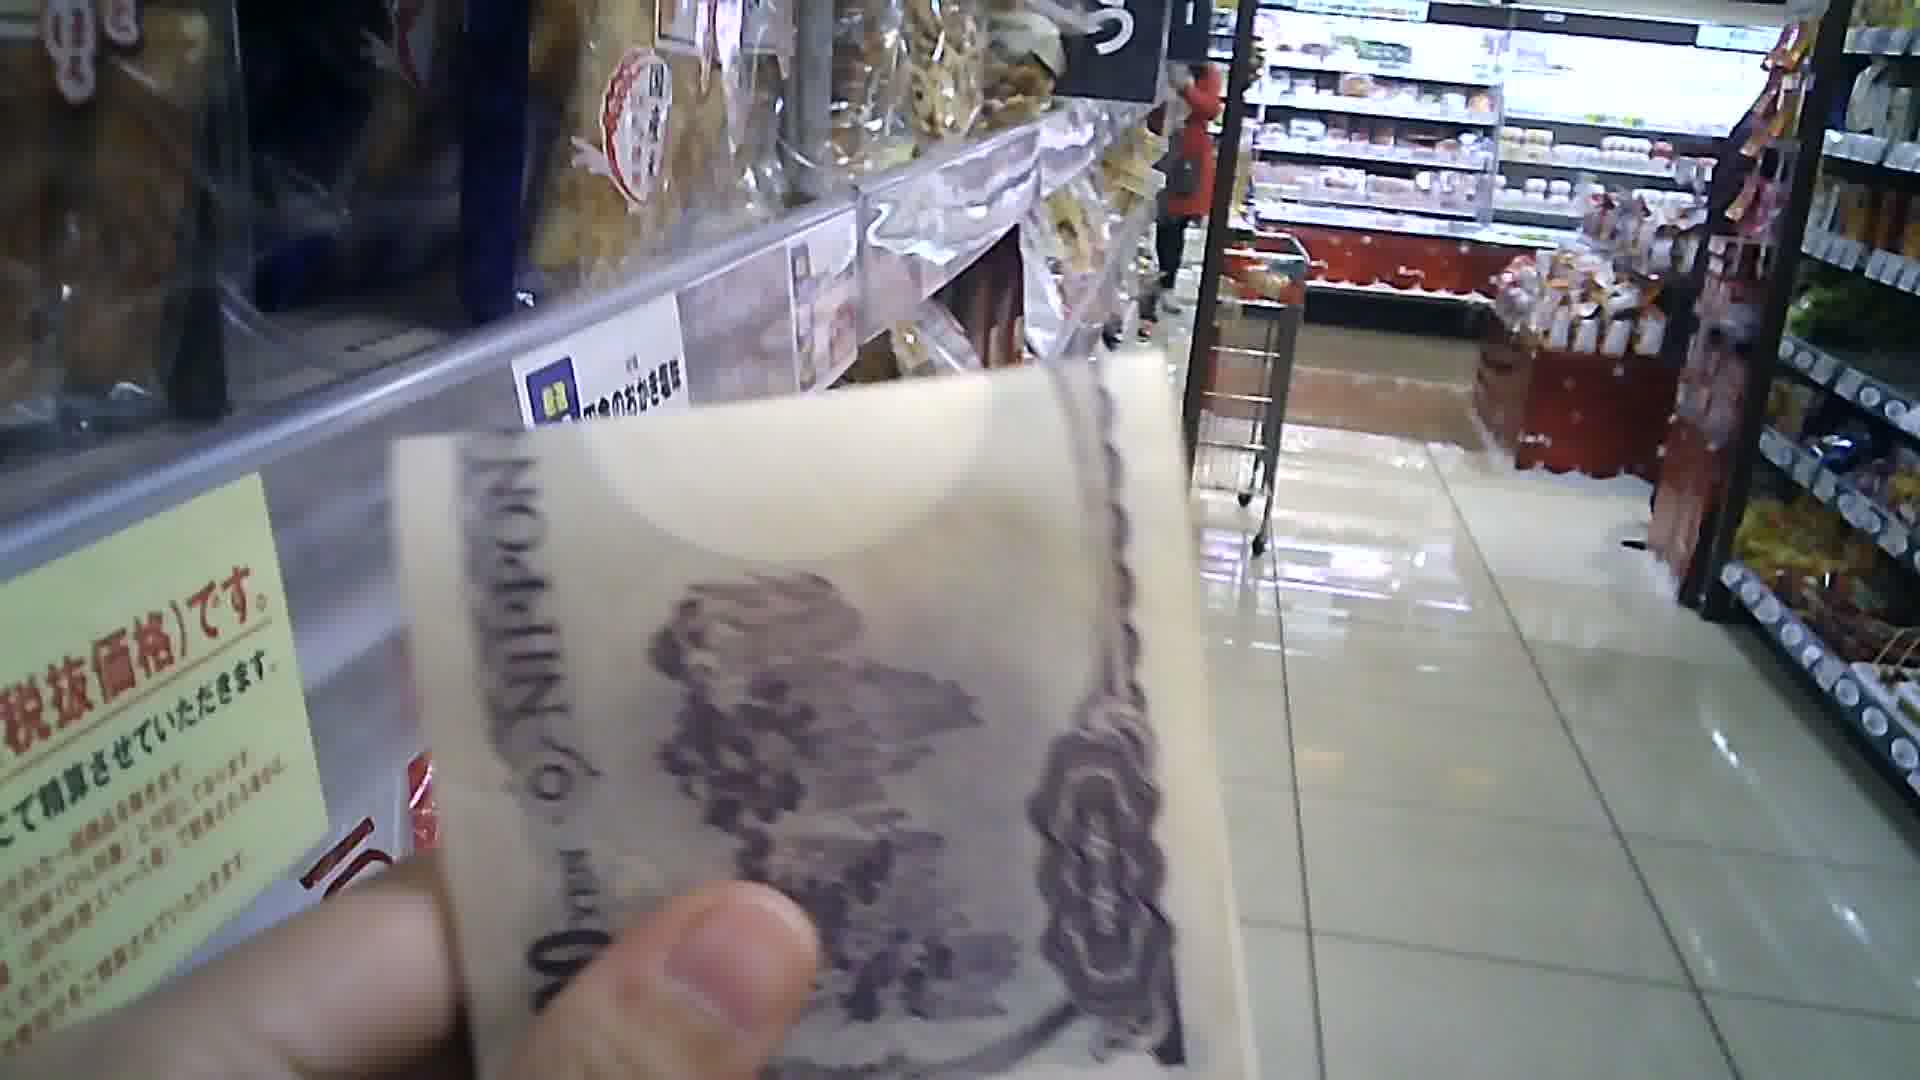5,000 Yen: (378, 361, 1269, 1079)
